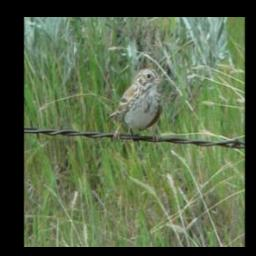Sparrow: (106, 65, 165, 143)
